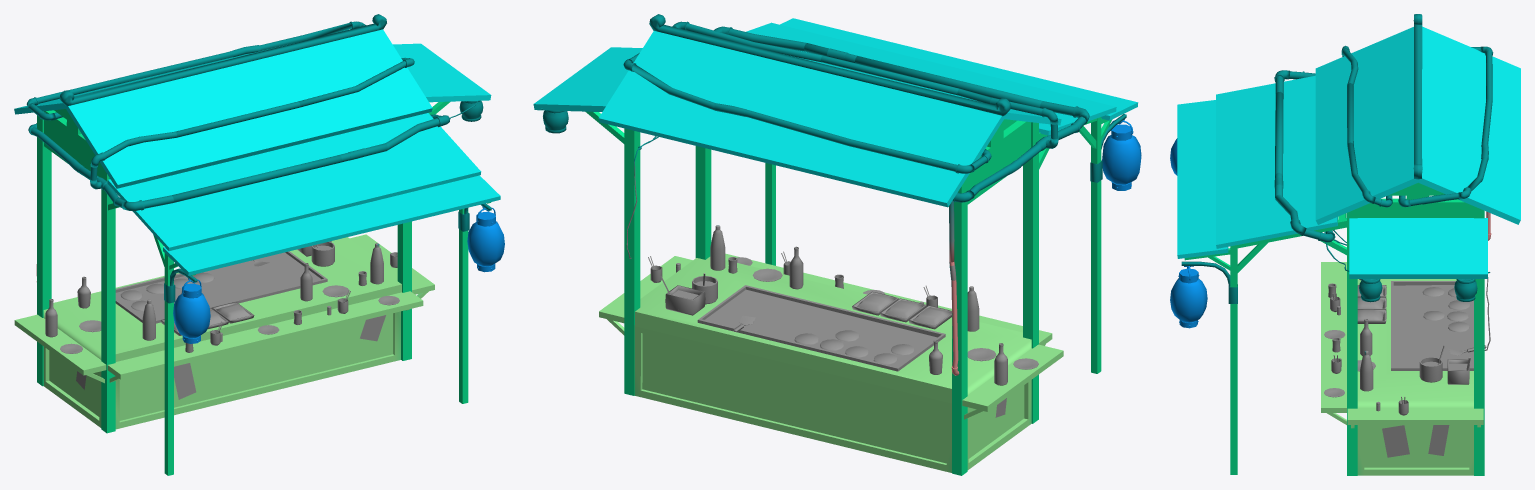
File: SM_ENV_LKNVLD_Stall_C.gltf
3 views of the same model, side by side, from view 1: azimuth 30°, elevation 25°; view 2: azimuth 150°, elevation 25°; view 3: azimuth 270°, elevation 25° (orthographic). The views are drawn at different scales.
Visible parts, largest first — view 1: SM_ENV_LKNVLD_Stall_C; view 2: SM_ENV_LKNVLD_Stall_C; view 3: SM_ENV_LKNVLD_Stall_C.
Part boxes in pixels (<box>): SM_ENV_LKNVLD_Stall_C: <box>14,14,504,475</box>; SM_ENV_LKNVLD_Stall_C: <box>533,14,1141,475</box>; SM_ENV_LKNVLD_Stall_C: <box>1170,14,1520,475</box>.
Size of the model in its own units: 5 by 3.69 by 3.75.
